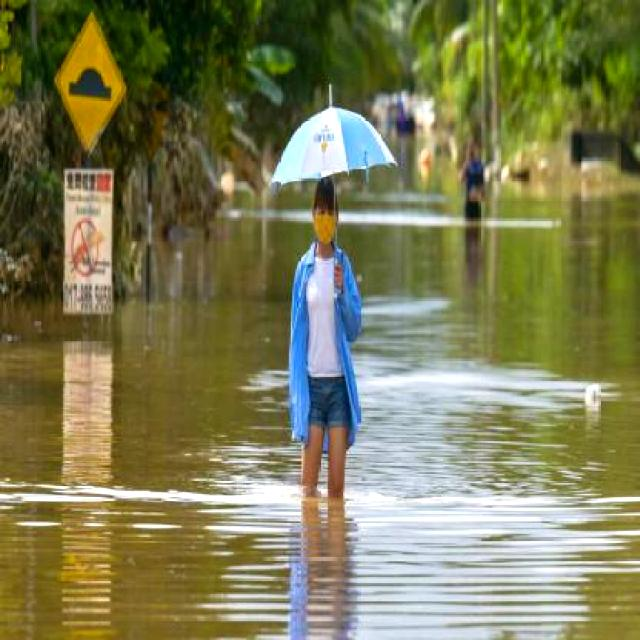civilian: (281, 175, 369, 515)
